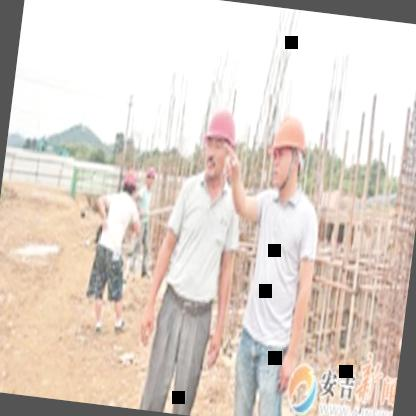helmet: (260, 102, 316, 198), (194, 99, 244, 188), (118, 168, 139, 199), (142, 163, 157, 192)
